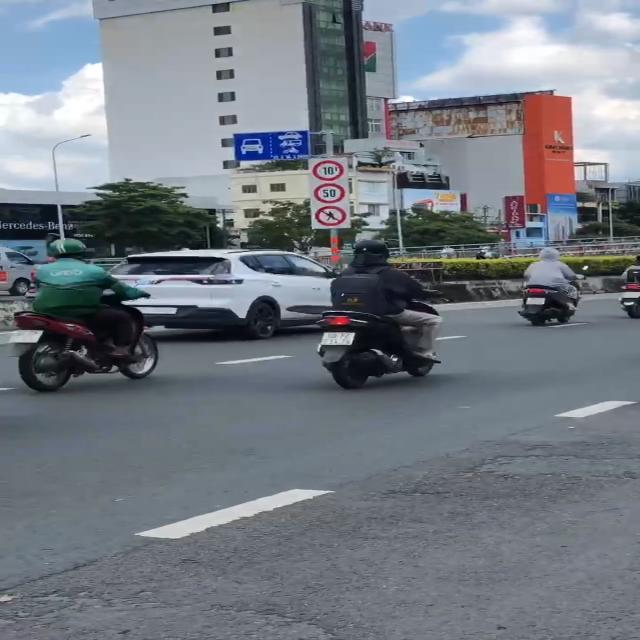Bien bao cam nguoi di bo: (312, 205, 351, 228)
Bien bao toc do toi da cho phep: (313, 182, 347, 202)
